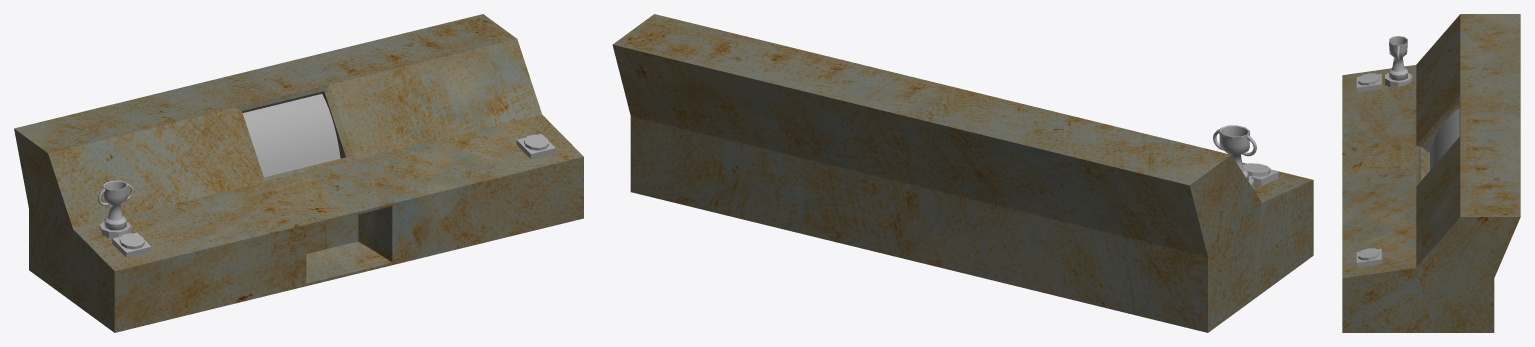
File: adminpanel.fbx
3 views of the same model, side by side, from view 1: azimuth 30°, elevation 25°; view 2: azimuth 150°, elevation 25°; view 3: azimuth 270°, elevation 25° (orthographic). The views are drawn at different scales.
Visible parts, largest first — view 1: base, screen, trophy, buttonholder, button; view 2: base, trophy; view 3: base, screen, trophy, buttonholder, button, trophyholder.
Part boxes in pixels (x1=…): base: x1=14, y1=14, x2=583, y2=332; screen: x1=242, y1=94, x2=340, y2=177; trophy: x1=98, y1=180, x2=133, y2=230; buttonholder: x1=112, y1=134, x2=555, y2=257; button: x1=119, y1=134, x2=548, y2=249; base: x1=612, y1=14, x2=1313, y2=332; trophy: x1=1213, y1=125, x2=1256, y2=180; base: x1=1342, y1=14, x2=1520, y2=332; screen: x1=1430, y1=108, x2=1459, y2=170; trophy: x1=1389, y1=36, x2=1407, y2=80; buttonholder: x1=1356, y1=73, x2=1382, y2=267; button: x1=1358, y1=73, x2=1379, y2=260; trophyholder: x1=1385, y1=72, x2=1411, y2=87.
Size of the model in its own units: 7.96 by 2.12 by 2.96.
3 materials, 1 textured.
